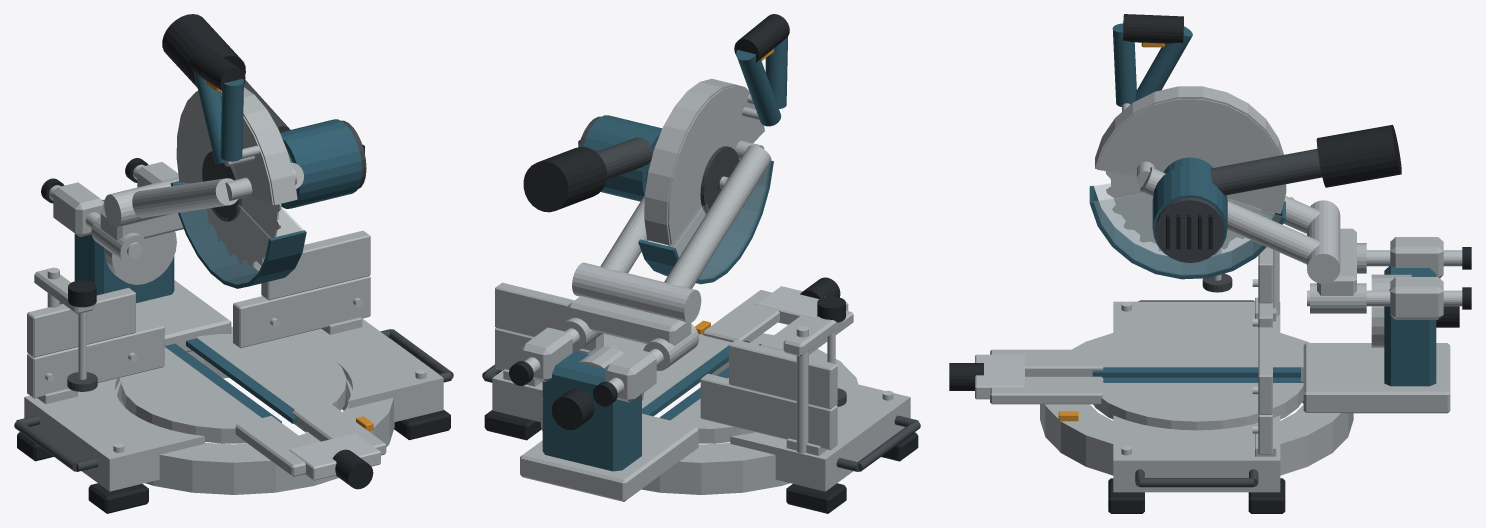
The picture shows the model from 3 angles, left to right: view 1: azimuth 30°, elevation 25°; view 2: azimuth 150°, elevation 25°; view 3: azimuth 270°, elevation 25°; orthographic projection. The views are drawn at different scales.
Parts seen in each view (by area): view 1: Base wing -1, Base annular casting, Base wing 1, Table half -1, Table half 1, Fence lower 1, Fence lower -1, Motor housing, Fence upper -1, Lower guard side -1, Lower guard rim, Fence upper 1 (+31 smaller); view 2: Base wing -1, Bevel carrier, Turntable rear bridge, Upper guard side -1, Base annular casting, Fence lower -1, Fence upper -1, Head arm -1, Upper guard crown, Plunge pivot, Dust bag, Lower guard rim (+34 smaller); view 3: Upper guard side 1, Base wing 1, Turntable rear bridge, Base annular casting, Table half 1, Table half -1, Lower guard side 1, Base wing -1, Dust bag, Bevel carrier, Lower guard rim, Dust outlet (+30 smaller).
Part boxes in pixels (bbox=[...]): Base wing -1: bbox=[24, 378, 204, 491]; Base annular casting: bbox=[115, 327, 394, 494]; Base wing 1: bbox=[282, 318, 443, 422]; Table half -1: bbox=[121, 347, 261, 443]; Table half 1: bbox=[196, 334, 346, 432]; Fence lower 1: bbox=[233, 276, 370, 348]; Fence lower -1: bbox=[27, 322, 164, 398]; Motor housing: bbox=[280, 119, 362, 208]; Fence upper -1: bbox=[27, 288, 135, 357]; Lower guard side -1: bbox=[173, 183, 270, 284]; Lower guard rim: bbox=[170, 181, 306, 288]; Fence upper 1: bbox=[261, 230, 370, 300]; Base wing -1: bbox=[730, 379, 910, 491]; Bevel carrier: bbox=[542, 350, 641, 471]; Turntable rear bridge: bbox=[520, 413, 698, 501]; Upper guard side -1: bbox=[668, 86, 764, 244]; Base annular casting: bbox=[541, 333, 858, 494]; Fence lower -1: bbox=[700, 373, 837, 450]; Fence upper -1: bbox=[729, 339, 837, 409]; Head arm -1: bbox=[664, 145, 771, 288]; Upper guard crown: bbox=[644, 78, 764, 245]; Plunge pivot: bbox=[572, 262, 701, 323]; Dust bag: bbox=[523, 147, 606, 212]; Lower guard rim: bbox=[638, 160, 773, 284]; Upper guard side 1: bbox=[1097, 98, 1284, 213]; Base wing 1: bbox=[1113, 415, 1280, 492]; Turntable rear bridge: bbox=[1303, 343, 1450, 413]; Base annular casting: bbox=[1040, 333, 1353, 475]; Table half 1: bbox=[1093, 383, 1303, 430]; Table half -1: bbox=[1103, 328, 1303, 381]; Lower guard side 1: bbox=[1094, 193, 1281, 274]; Base wing -1: bbox=[1113, 301, 1280, 344]; Dust bag: bbox=[1316, 125, 1401, 187]; Bevel carrier: bbox=[1384, 265, 1436, 386]; Lower guard rim: bbox=[1089, 185, 1285, 279]; Dust outlet: bbox=[1210, 148, 1322, 195].
Bounding box in the file's own units: 0.644 × 0.66 × 0.783.
